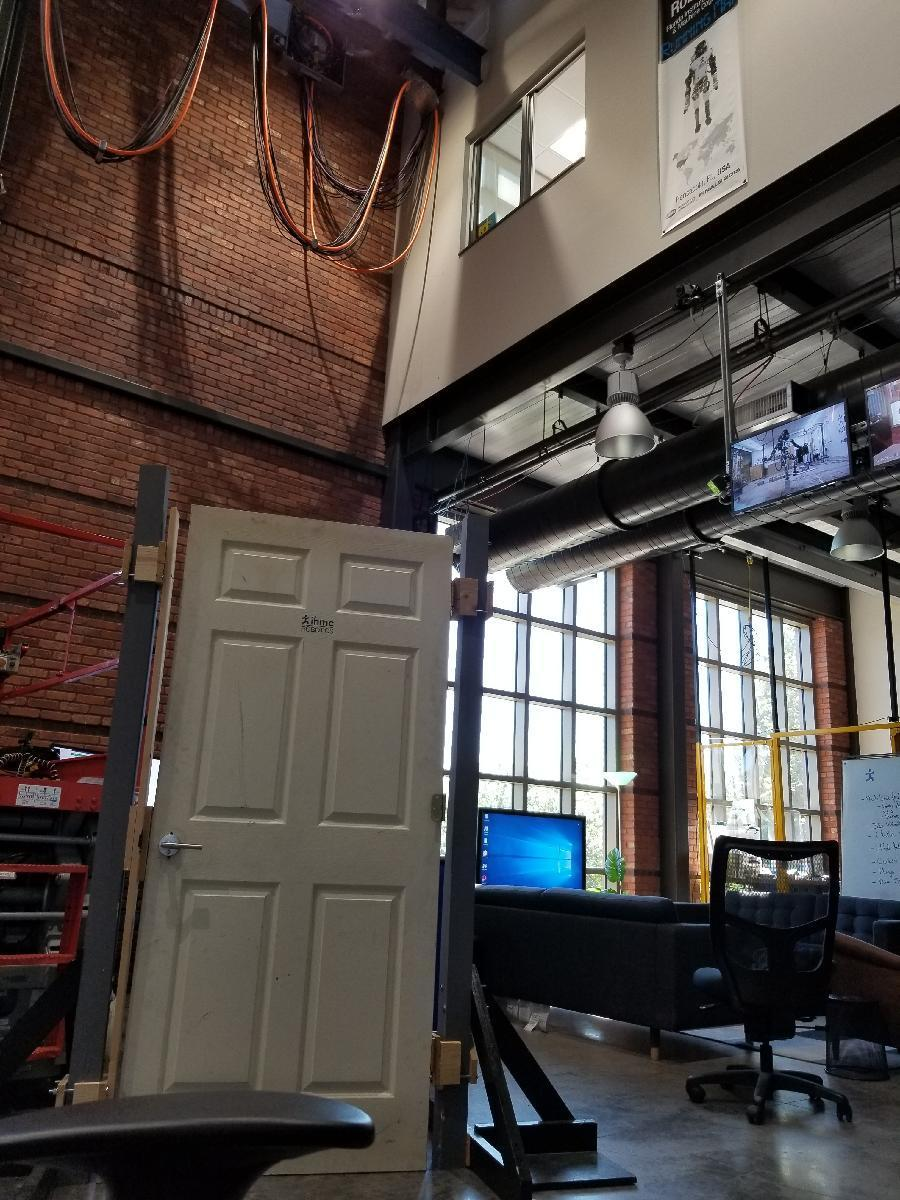door: (160, 506, 437, 1168)
handle: (154, 832, 206, 860)
